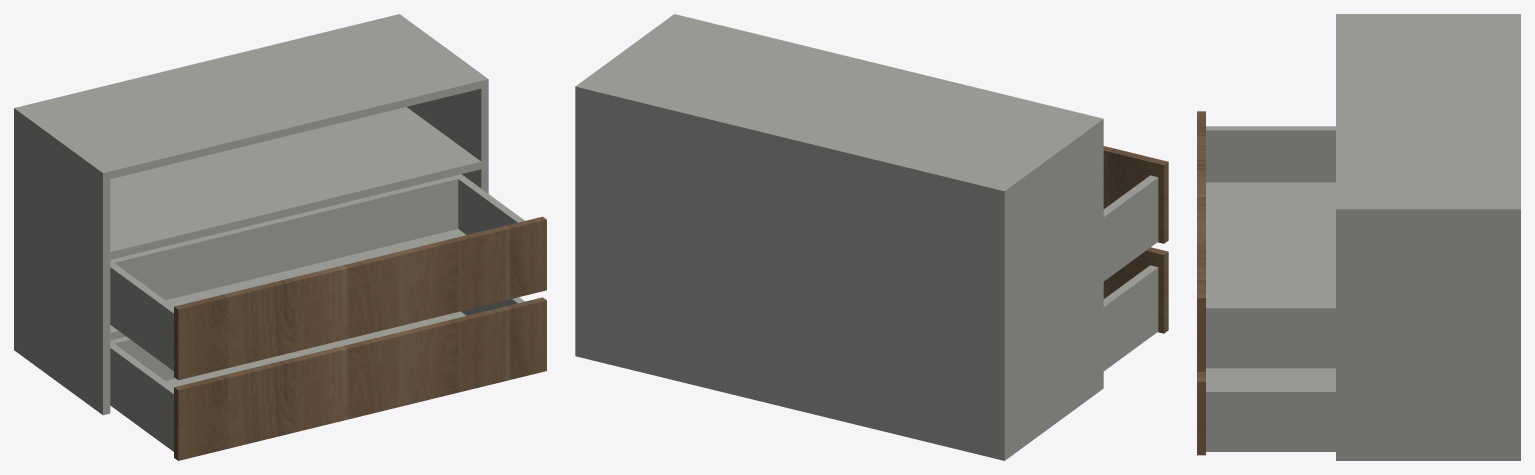
Rendered from meuble_68f885570a5a4.glb.
3 views of the same model, side by side, from view 1: azimuth 30°, elevation 25°; view 2: azimuth 150°, elevation 25°; view 3: azimuth 270°, elevation 25° (orthographic). The views are drawn at different scales.
Visible parts, largest first — view 1: world; view 2: world; view 3: world.
Part boxes in pixels (x1=…): world: x1=14, y1=14, x2=546, y2=460; world: x1=575, y1=14, x2=1168, y2=460; world: x1=1197, y1=14, x2=1520, y2=460.
Bounding box in the file's own units: 1 × 0.6 × 0.7.
Materials: 1 (1 with a texture image).
